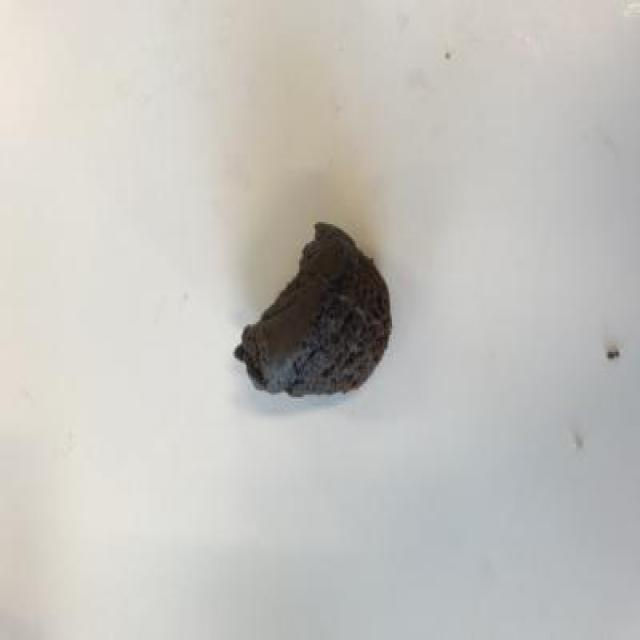compost: (222, 177, 425, 443)
